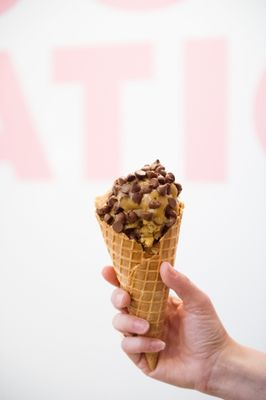pizza: (101, 261, 266, 400)
